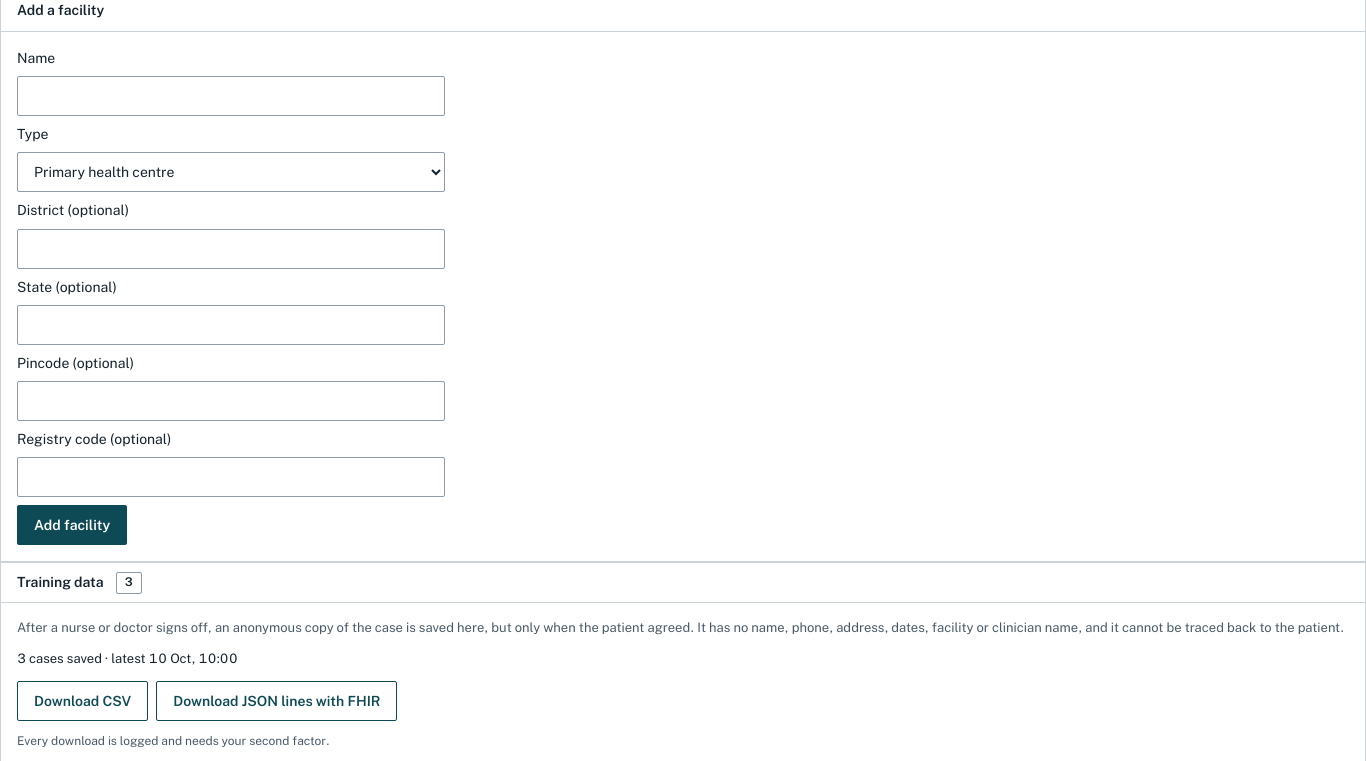
Test case: training data › shows the server's reason when the download is refused
The width and height of the screenshot is (1366, 761).
Click the button "Download CSV" at [83, 701], box [17, 681, 148, 721]
(page scrolled)
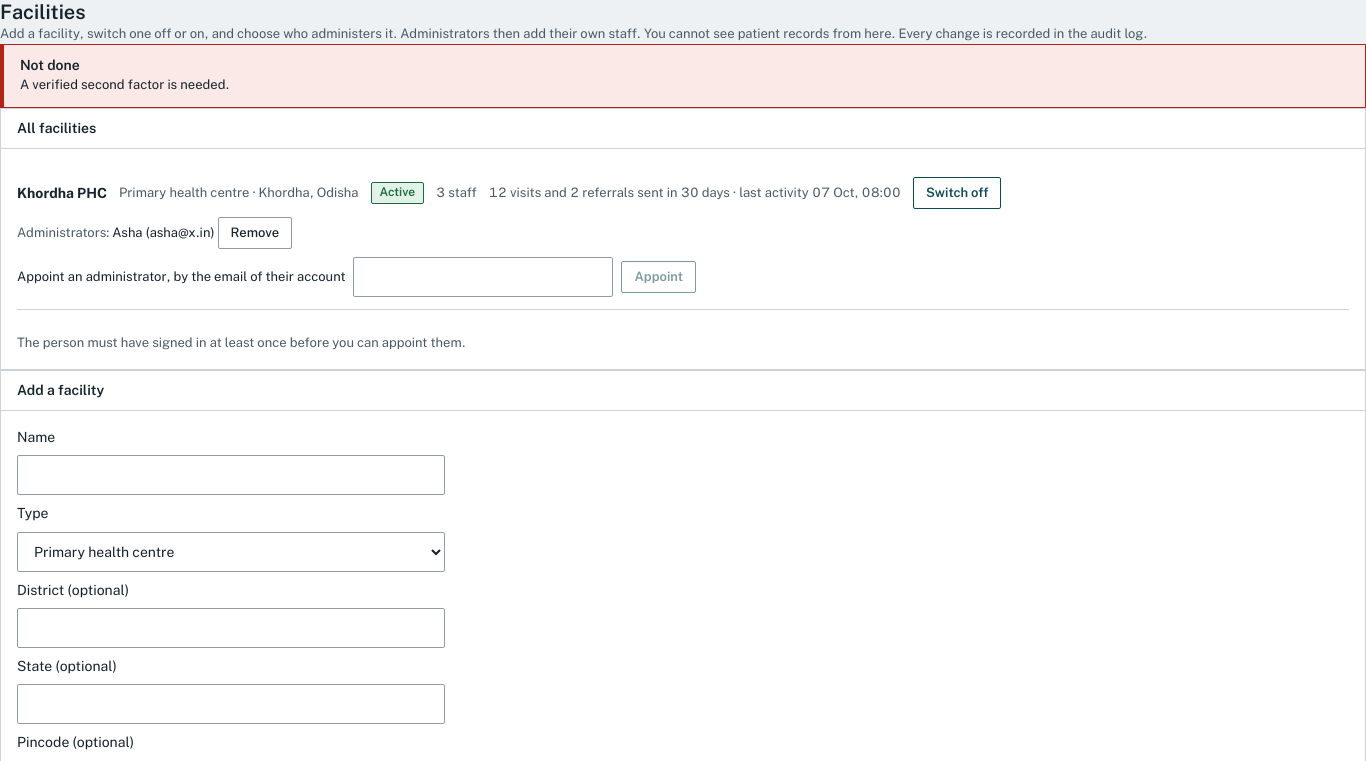
Expected: the text "A verified second factor is needed." is shown, [20, 77, 229, 92]
